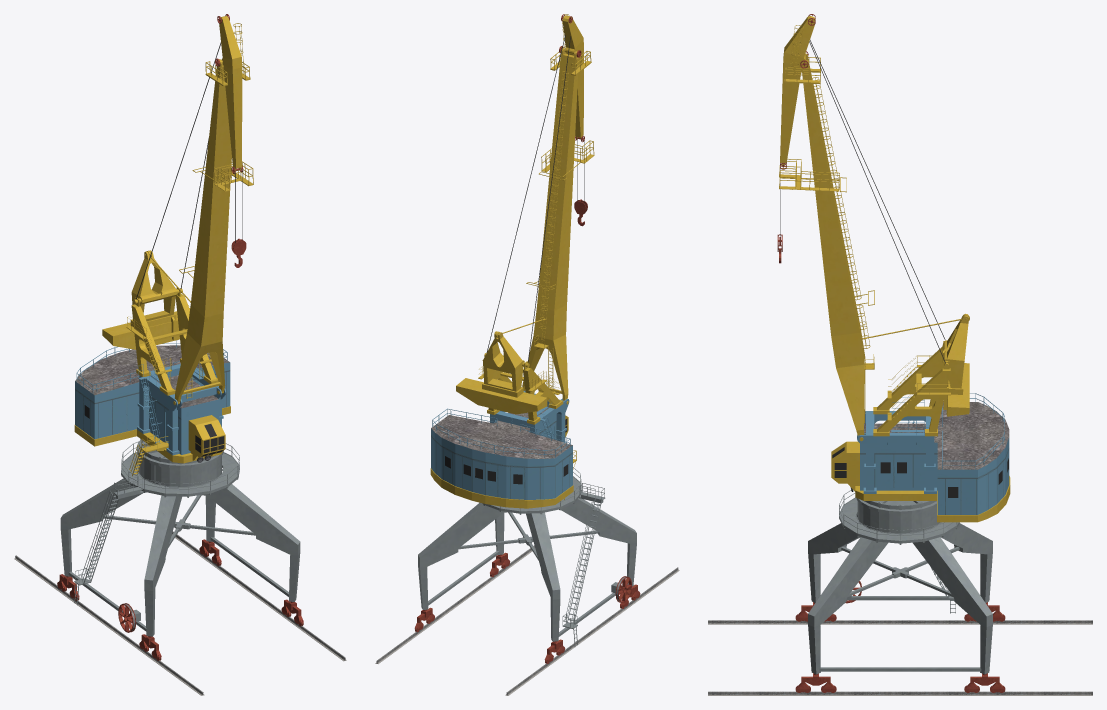
The model's file is crane_kpp.glb.
3 renders of one model, left to right at view 1: azimuth 30°, elevation 25°; view 2: azimuth 150°, elevation 25°; view 3: azimuth 270°, elevation 25°, orthographic. The views are drawn at different scales.
Visible parts, largest first — view 1: turnable_platform_Material.006_0, base_Material_0, boom_Material.003_0, boom_angle_geer_Material.009_0, luffing_jib_Material.010_0, tracks_Material.001_0, tracks_Material.002_0, ropes_1_Material.004_0; view 2: turnable_platform_Material.006_0, base_Material_0, boom_Material.003_0, boom_angle_geer_Material.009_0, luffing_jib_Material.010_0, tracks_Material.001_0, ropes_1_Material.004_0, tracks_Material.002_0; view 3: turnable_platform_Material.006_0, base_Material_0, boom_Material.003_0, tracks_Material.001_0, luffing_jib_Material.010_0, boom_angle_geer_Material.009_0, tracks_Material.002_0, ropes_1_Material.004_0.
Boxes of the visible parts, left/top/right/bottom form: turnable_platform_Material.006_0: left=74, top=287, right=230, bottom=476; base_Material_0: left=57, top=441, right=303, bottom=660; boom_Material.003_0: left=173, top=58, right=253, bottom=404; boom_angle_geer_Material.009_0: left=102, top=250, right=190, bottom=349; luffing_jib_Material.010_0: left=217, top=14, right=243, bottom=173; tracks_Material.001_0: left=15, top=531, right=345, bottom=694; tracks_Material.002_0: left=14, top=534, right=346, bottom=695; ropes_1_Material.004_0: left=136, top=42, right=220, bottom=299; turnable_platform_Material.006_0: left=430, top=361, right=576, bottom=508; base_Material_0: left=414, top=467, right=640, bottom=663; boom_Material.003_0: left=522, top=46, right=594, bottom=404; boom_angle_geer_Material.009_0: left=456, top=331, right=547, bottom=414; luffing_jib_Material.010_0: left=561, top=14, right=584, bottom=142; tracks_Material.001_0: left=376, top=545, right=678, bottom=695; ropes_1_Material.004_0: left=486, top=35, right=570, bottom=361; tracks_Material.002_0: left=375, top=548, right=679, bottom=695; turnable_platform_Material.006_0: left=831, top=341, right=1010, bottom=522; base_Material_0: left=795, top=490, right=1005, bottom=692; boom_Material.003_0: left=779, top=51, right=874, bottom=441; tracks_Material.001_0: left=708, top=620, right=1092, bottom=694; luffing_jib_Material.010_0: left=780, top=14, right=815, bottom=169; boom_angle_geer_Material.009_0: left=942, top=313, right=969, bottom=416; tracks_Material.002_0: left=708, top=623, right=1092, bottom=695; ropes_1_Material.004_0: left=809, top=40, right=945, bottom=363.
Bounding box in the file's own units: 16.92 × 63.73 × 34.55.
11 materials, 11 textured.
